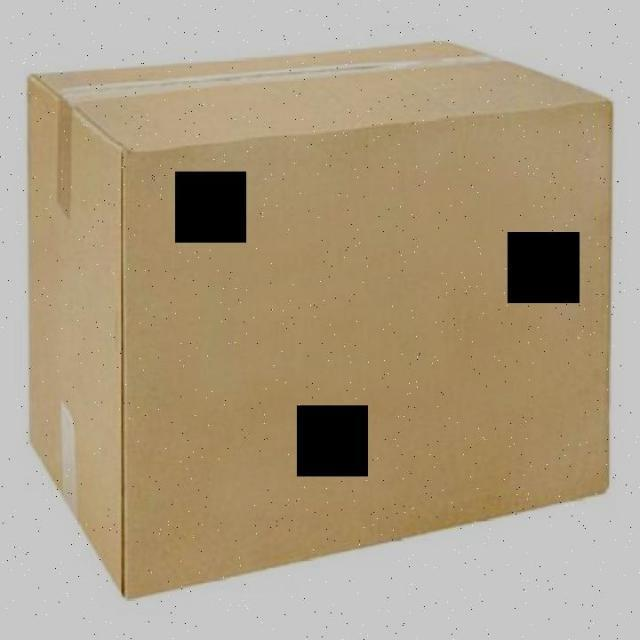box: (11, 31, 626, 611)
